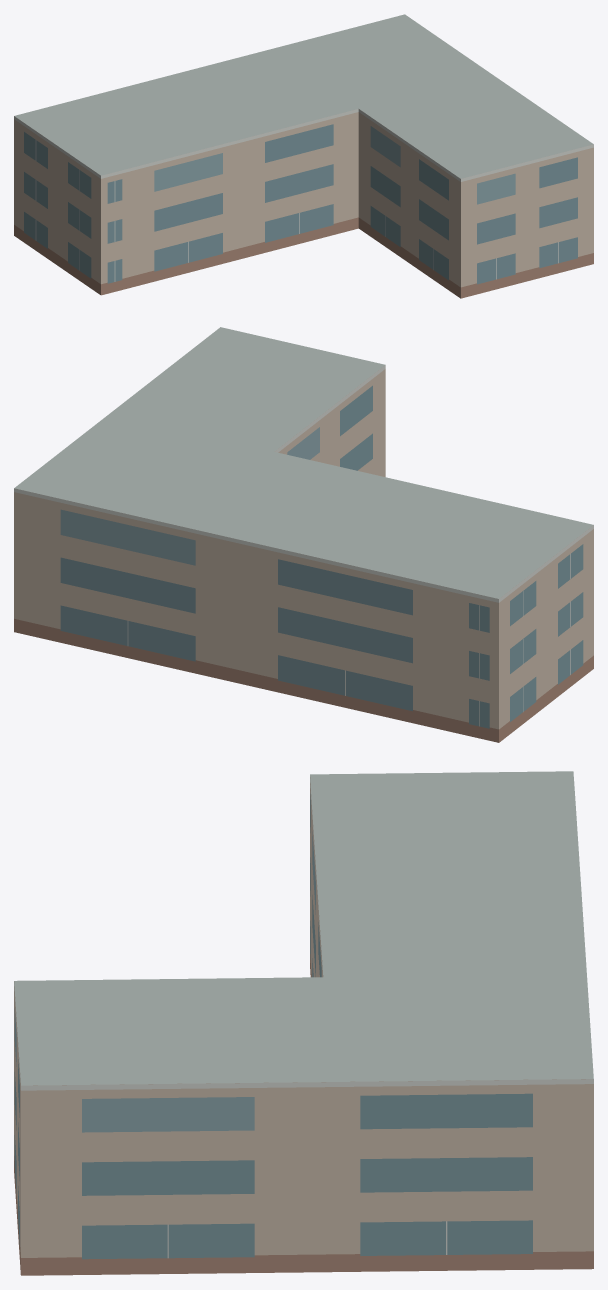
The model's file is survey-upis-32990535.glb.
3 views of the same model, one above another, from view 1: azimuth 30°, elevation 25°; view 2: azimuth 150°, elevation 25°; view 3: azimuth 270°, elevation 25° (orthographic). The views are drawn at different scales.
Parts seen in each view (by area): view 1: survey-upis-32990535.tmp; view 2: survey-upis-32990535.tmp; view 3: survey-upis-32990535.tmp.
Boxes of the visible parts, left/top/right/bottom form: survey-upis-32990535.tmp: left=14, top=14, right=593, bottom=298; survey-upis-32990535.tmp: left=14, top=327, right=593, bottom=742; survey-upis-32990535.tmp: left=14, top=771, right=593, bottom=1275.
Size of the model in its own units: 32.46 by 9.15 by 25.31.
